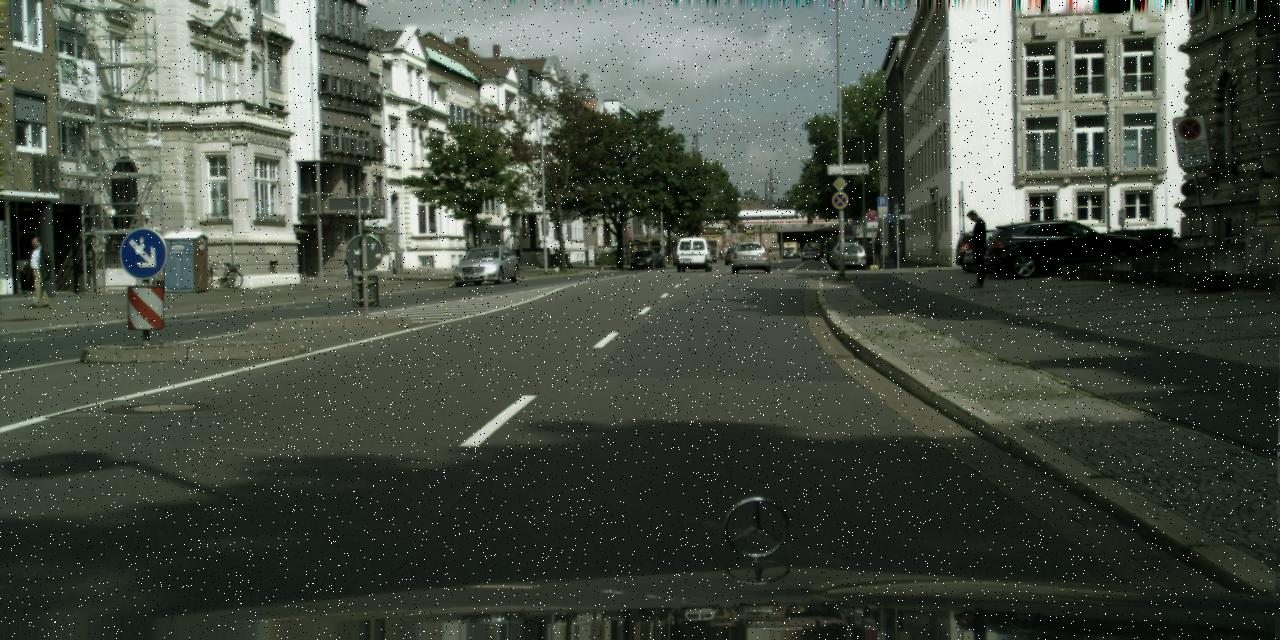ped: (960, 210, 991, 286), (24, 236, 52, 306), (869, 236, 881, 268), (890, 238, 902, 268)
